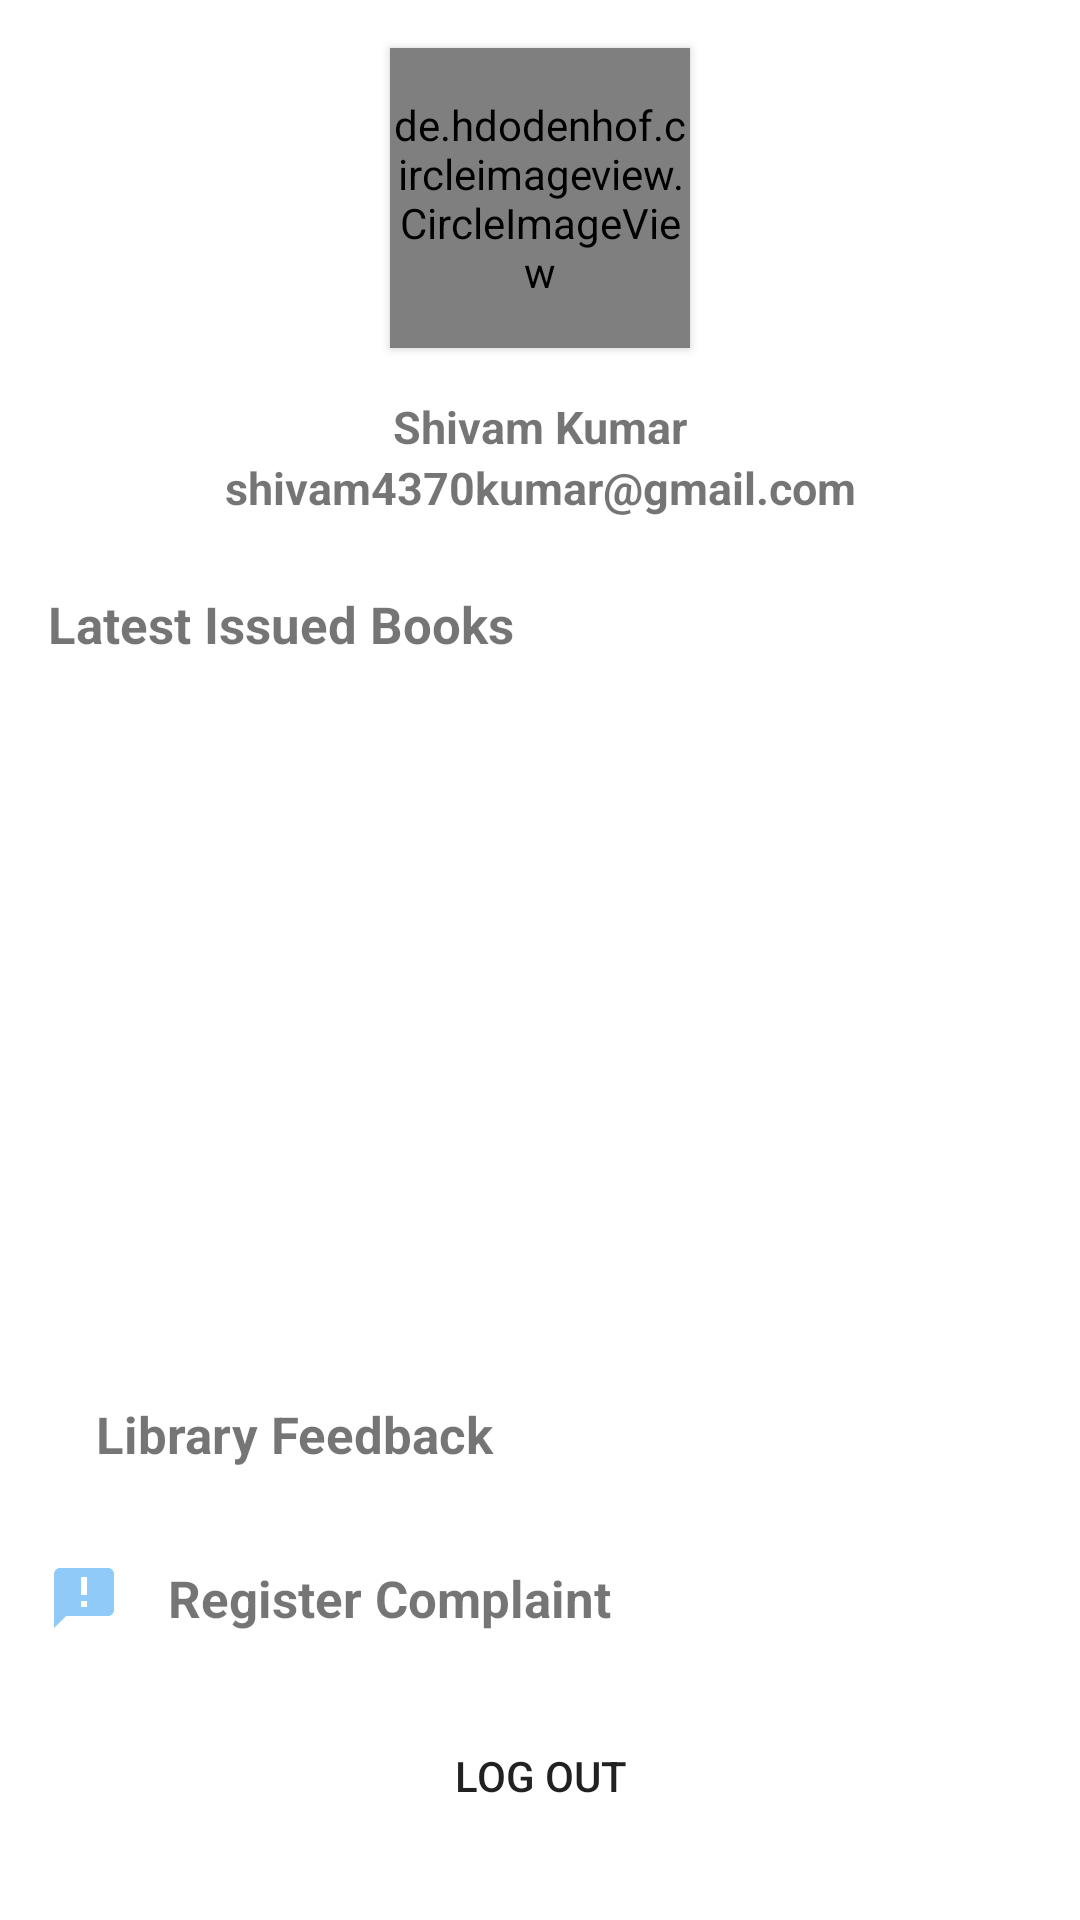

Icon bounding boxes for this 1080px x 1920px phone screenshot, format (x1, y1, x2, y2):
announcement: (54, 1568, 114, 1628)
